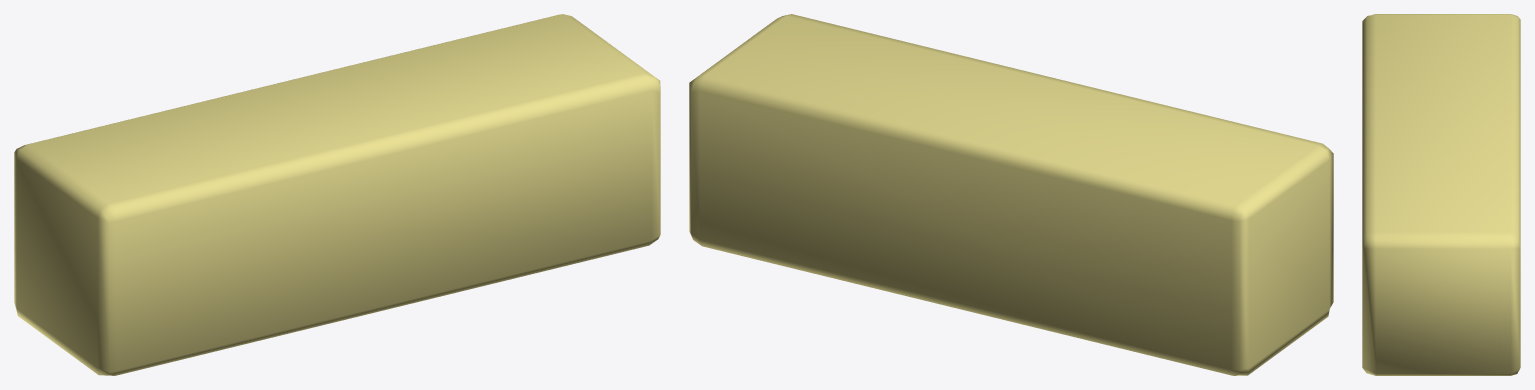
The model's file is Butter.fbx.
The picture shows the model from 3 angles, left to right: view 1: azimuth 30°, elevation 25°; view 2: azimuth 150°, elevation 25°; view 3: azimuth 270°, elevation 25°; orthographic projection. The views are drawn at different scales.
Parts seen in each view (by area): view 1: Cube; view 2: Cube; view 3: Cube.
Part boxes in pixels (<box>): Cube: <box>14,14,660,375</box>; Cube: <box>689,14,1333,375</box>; Cube: <box>1362,14,1520,375</box>.
Size of the model in its own units: 685 by 200 by 200.
